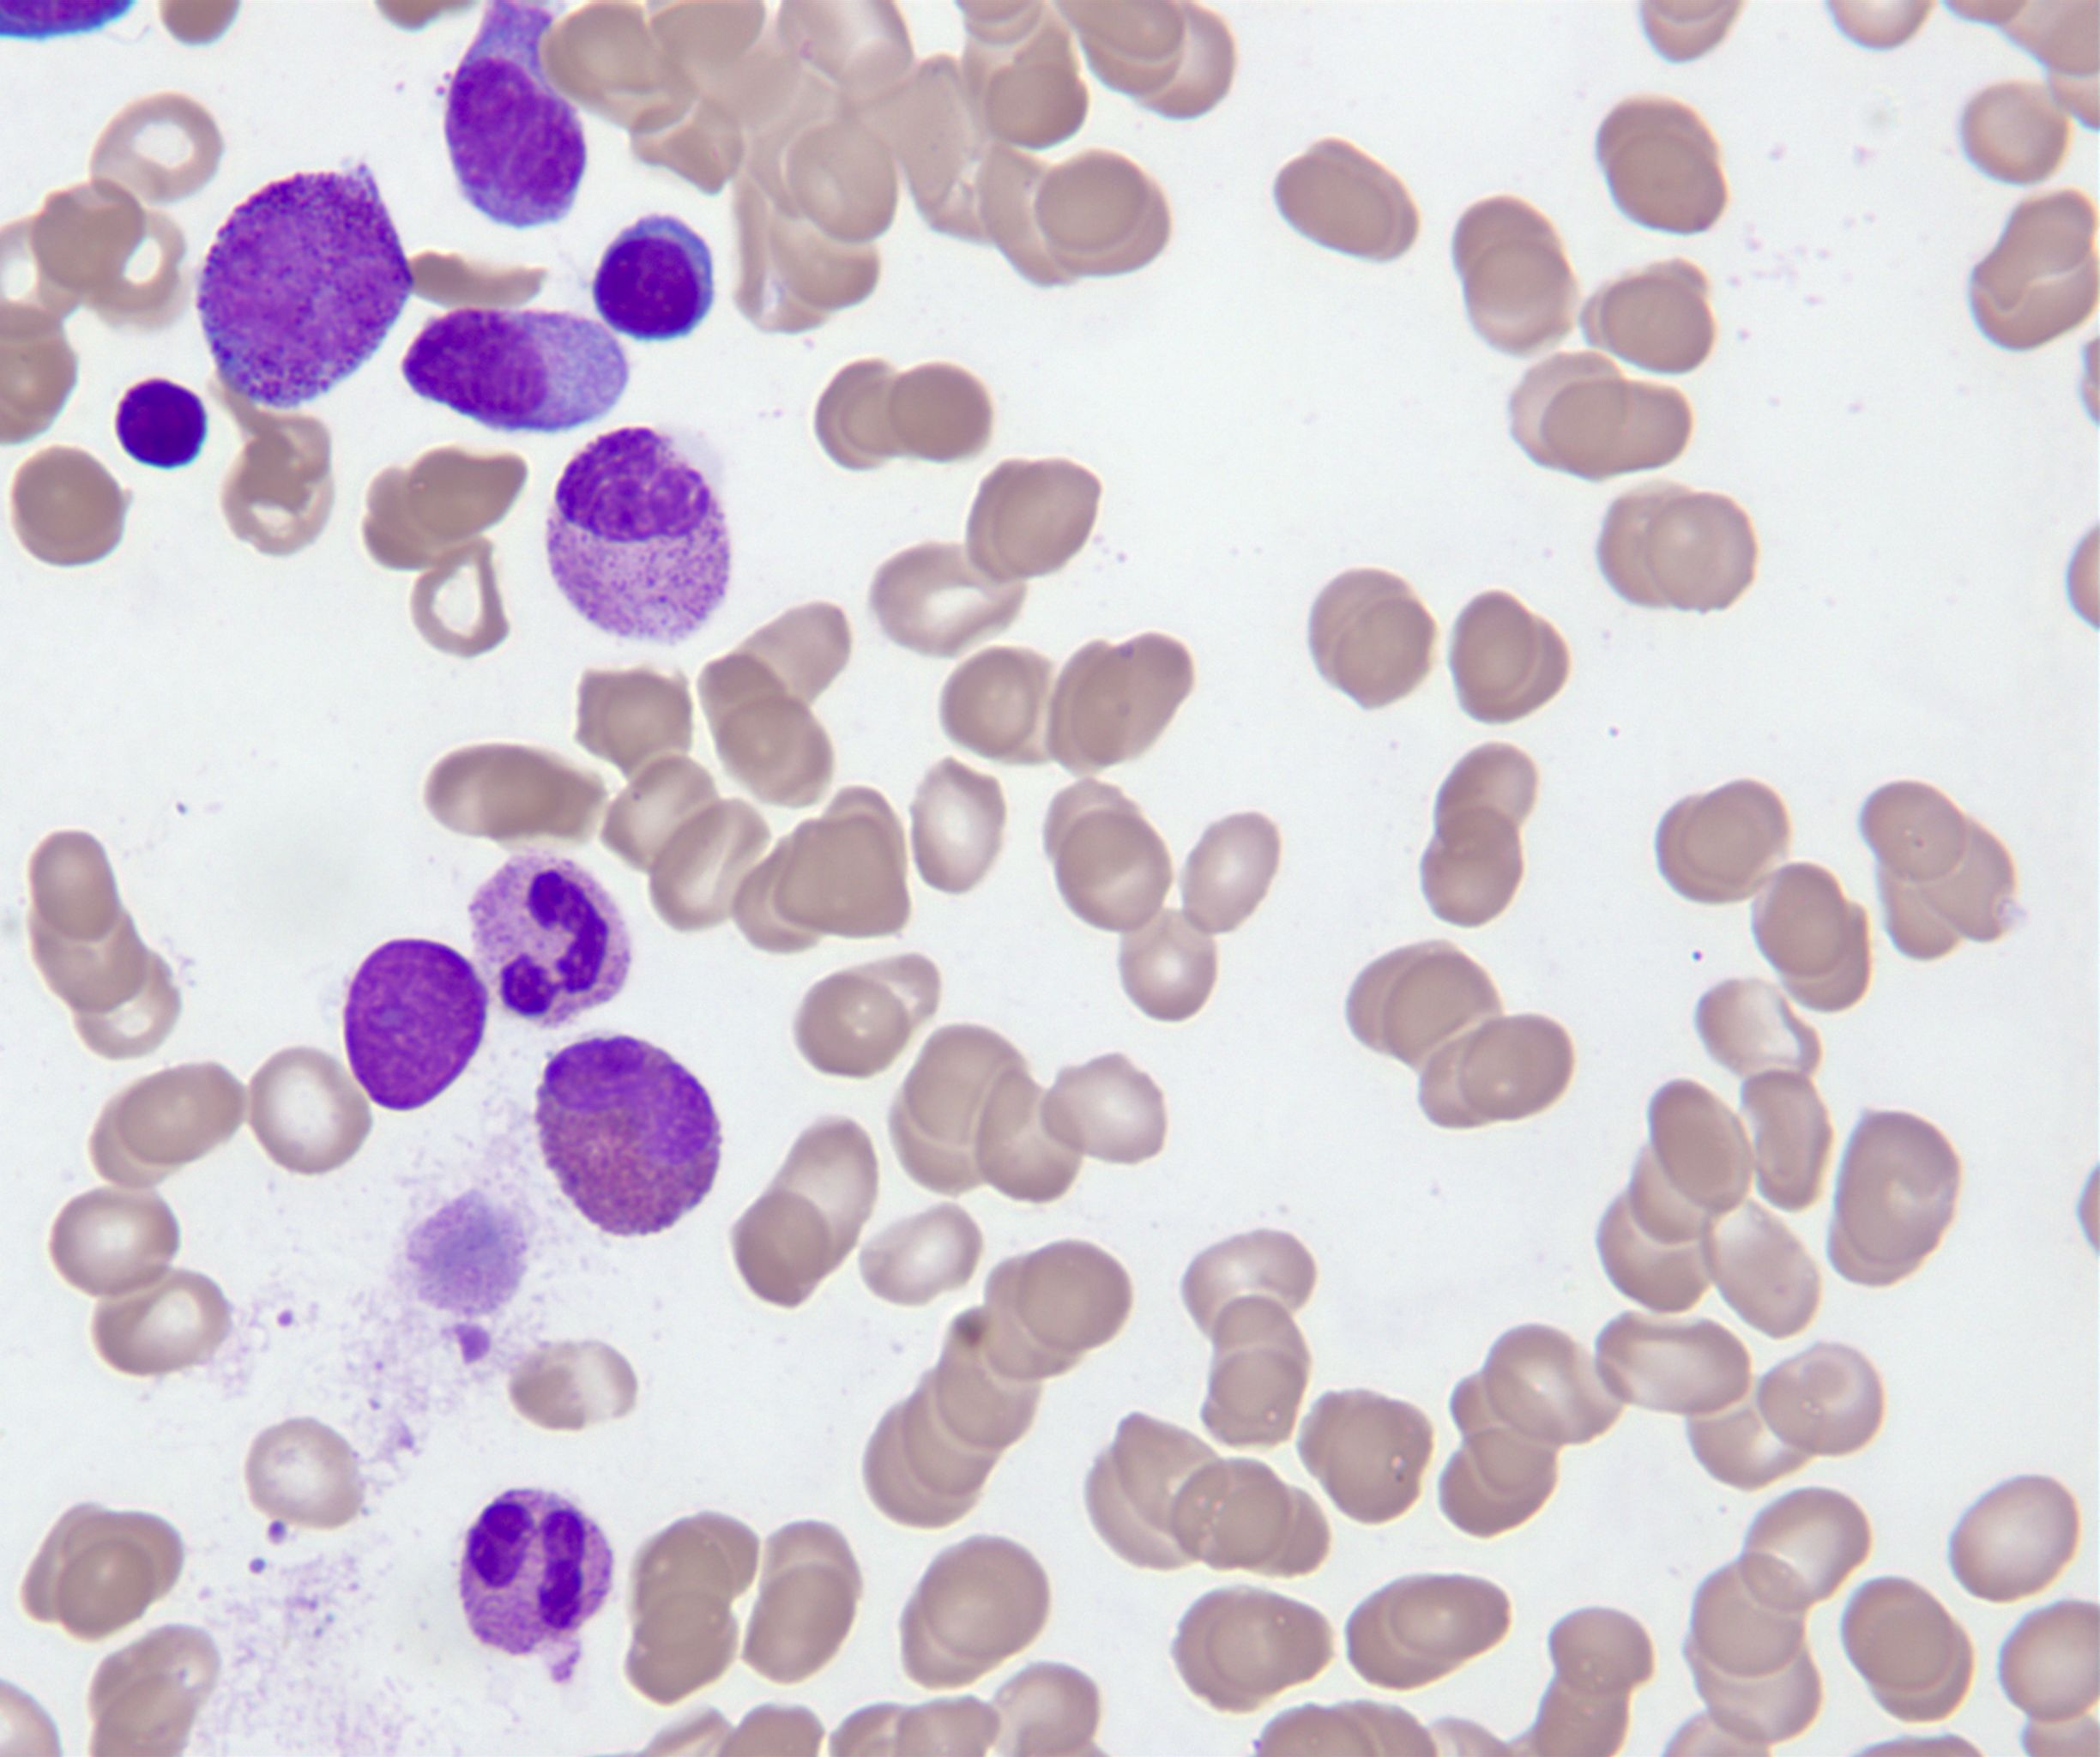3: (199, 161, 413, 410), (401, 311, 626, 431)
32: (595, 216, 713, 340), (115, 380, 206, 469)
42: (445, 3, 584, 229)
6: (546, 426, 729, 644), (460, 1490, 612, 1682), (469, 851, 630, 1031)
E3: (535, 1036, 720, 1237)
x: (345, 939, 487, 1111)
